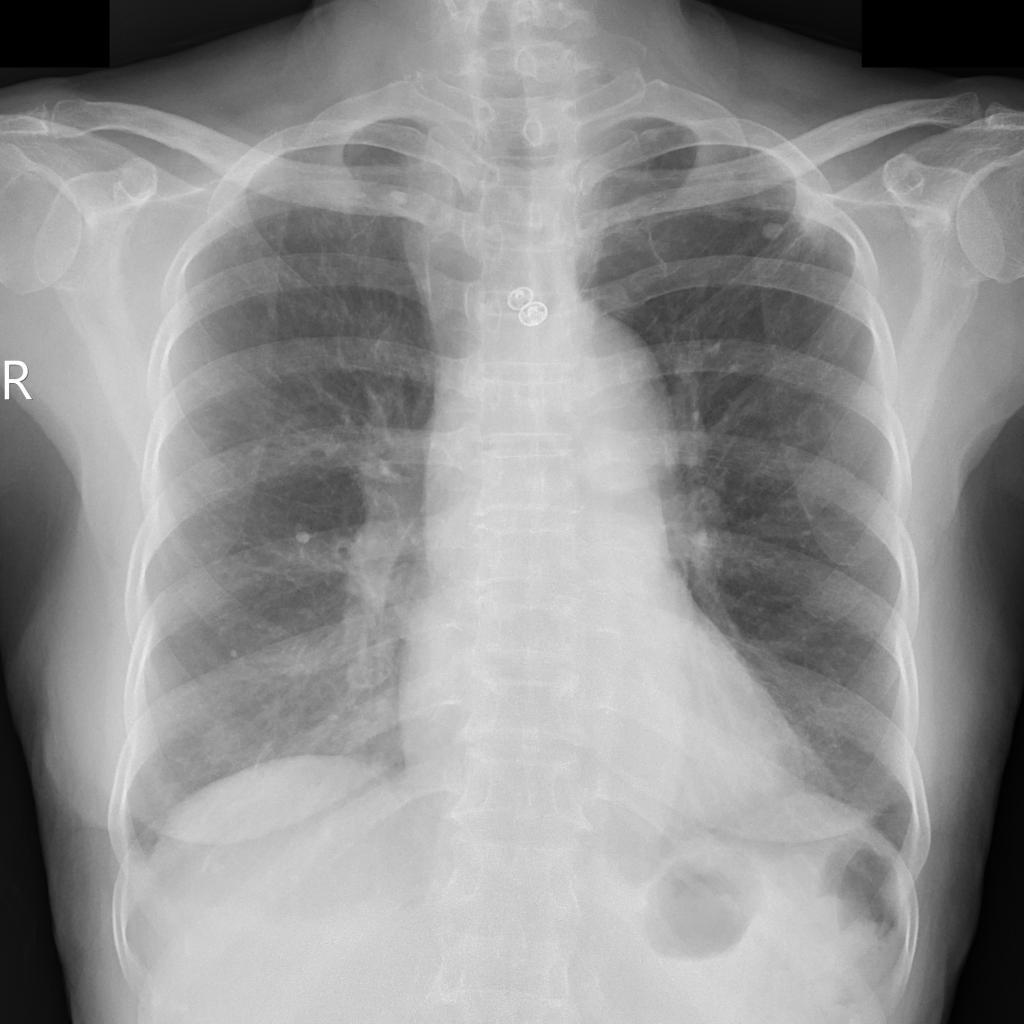Nodule: (203, 727, 238, 771), (762, 224, 785, 240)
